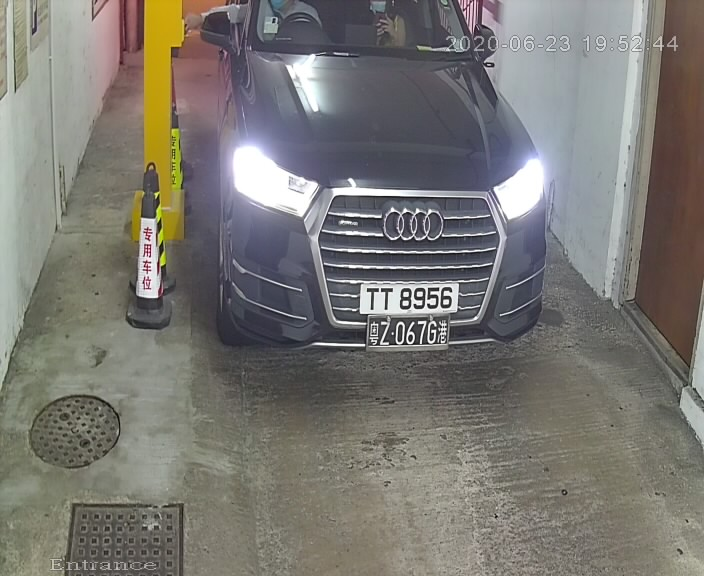privatecar: (198, 2, 555, 370)
